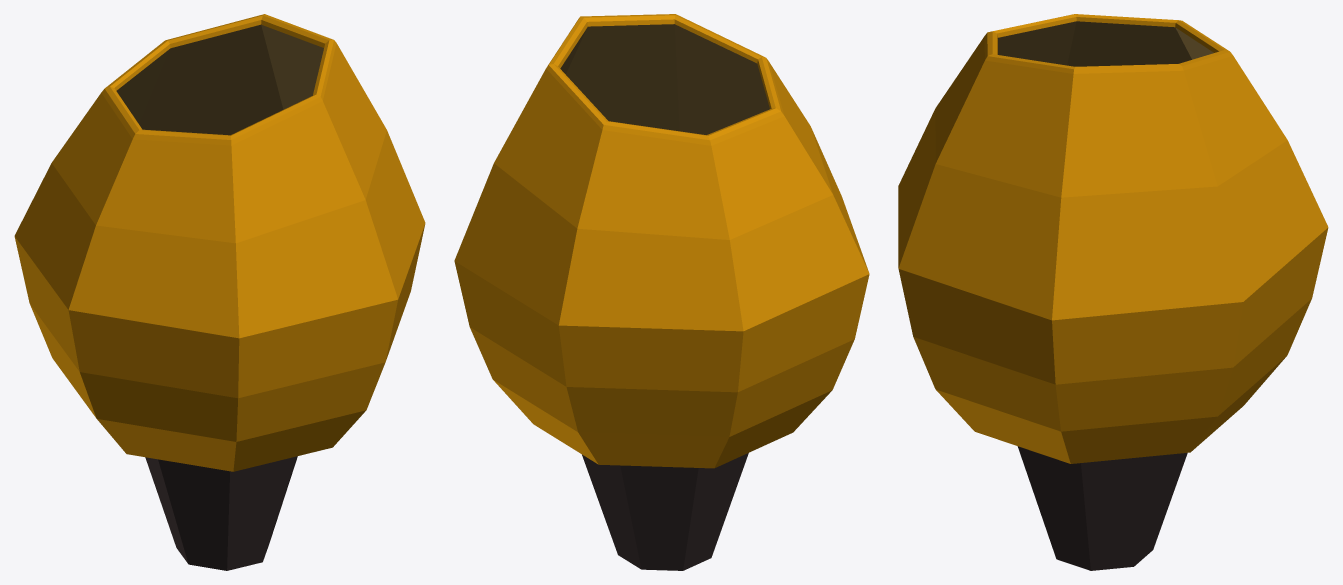
The model's file is Hongo silvestre 3.fbx.
3 views of the same model, side by side, from view 1: azimuth 30°, elevation 25°; view 2: azimuth 150°, elevation 25°; view 3: azimuth 270°, elevation 25° (orthographic). The views are drawn at different scales.
Parts seen in each view (by area): view 1: Circle; view 2: Circle; view 3: Circle.
Part boxes in pixels (x1=…): Circle: x1=14, y1=14, x2=425, y2=570; Circle: x1=454, y1=14, x2=869, y2=570; Circle: x1=898, y1=14, x2=1328, y2=570.
Bounding box in the file's own units: 22.29 × 29.66 × 21.73.
